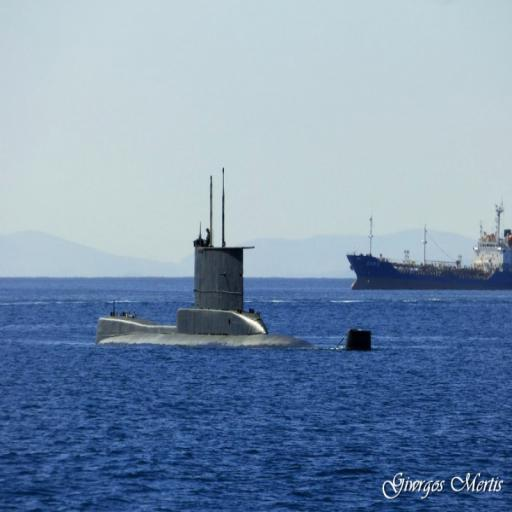submarine: (70, 241, 378, 351)
